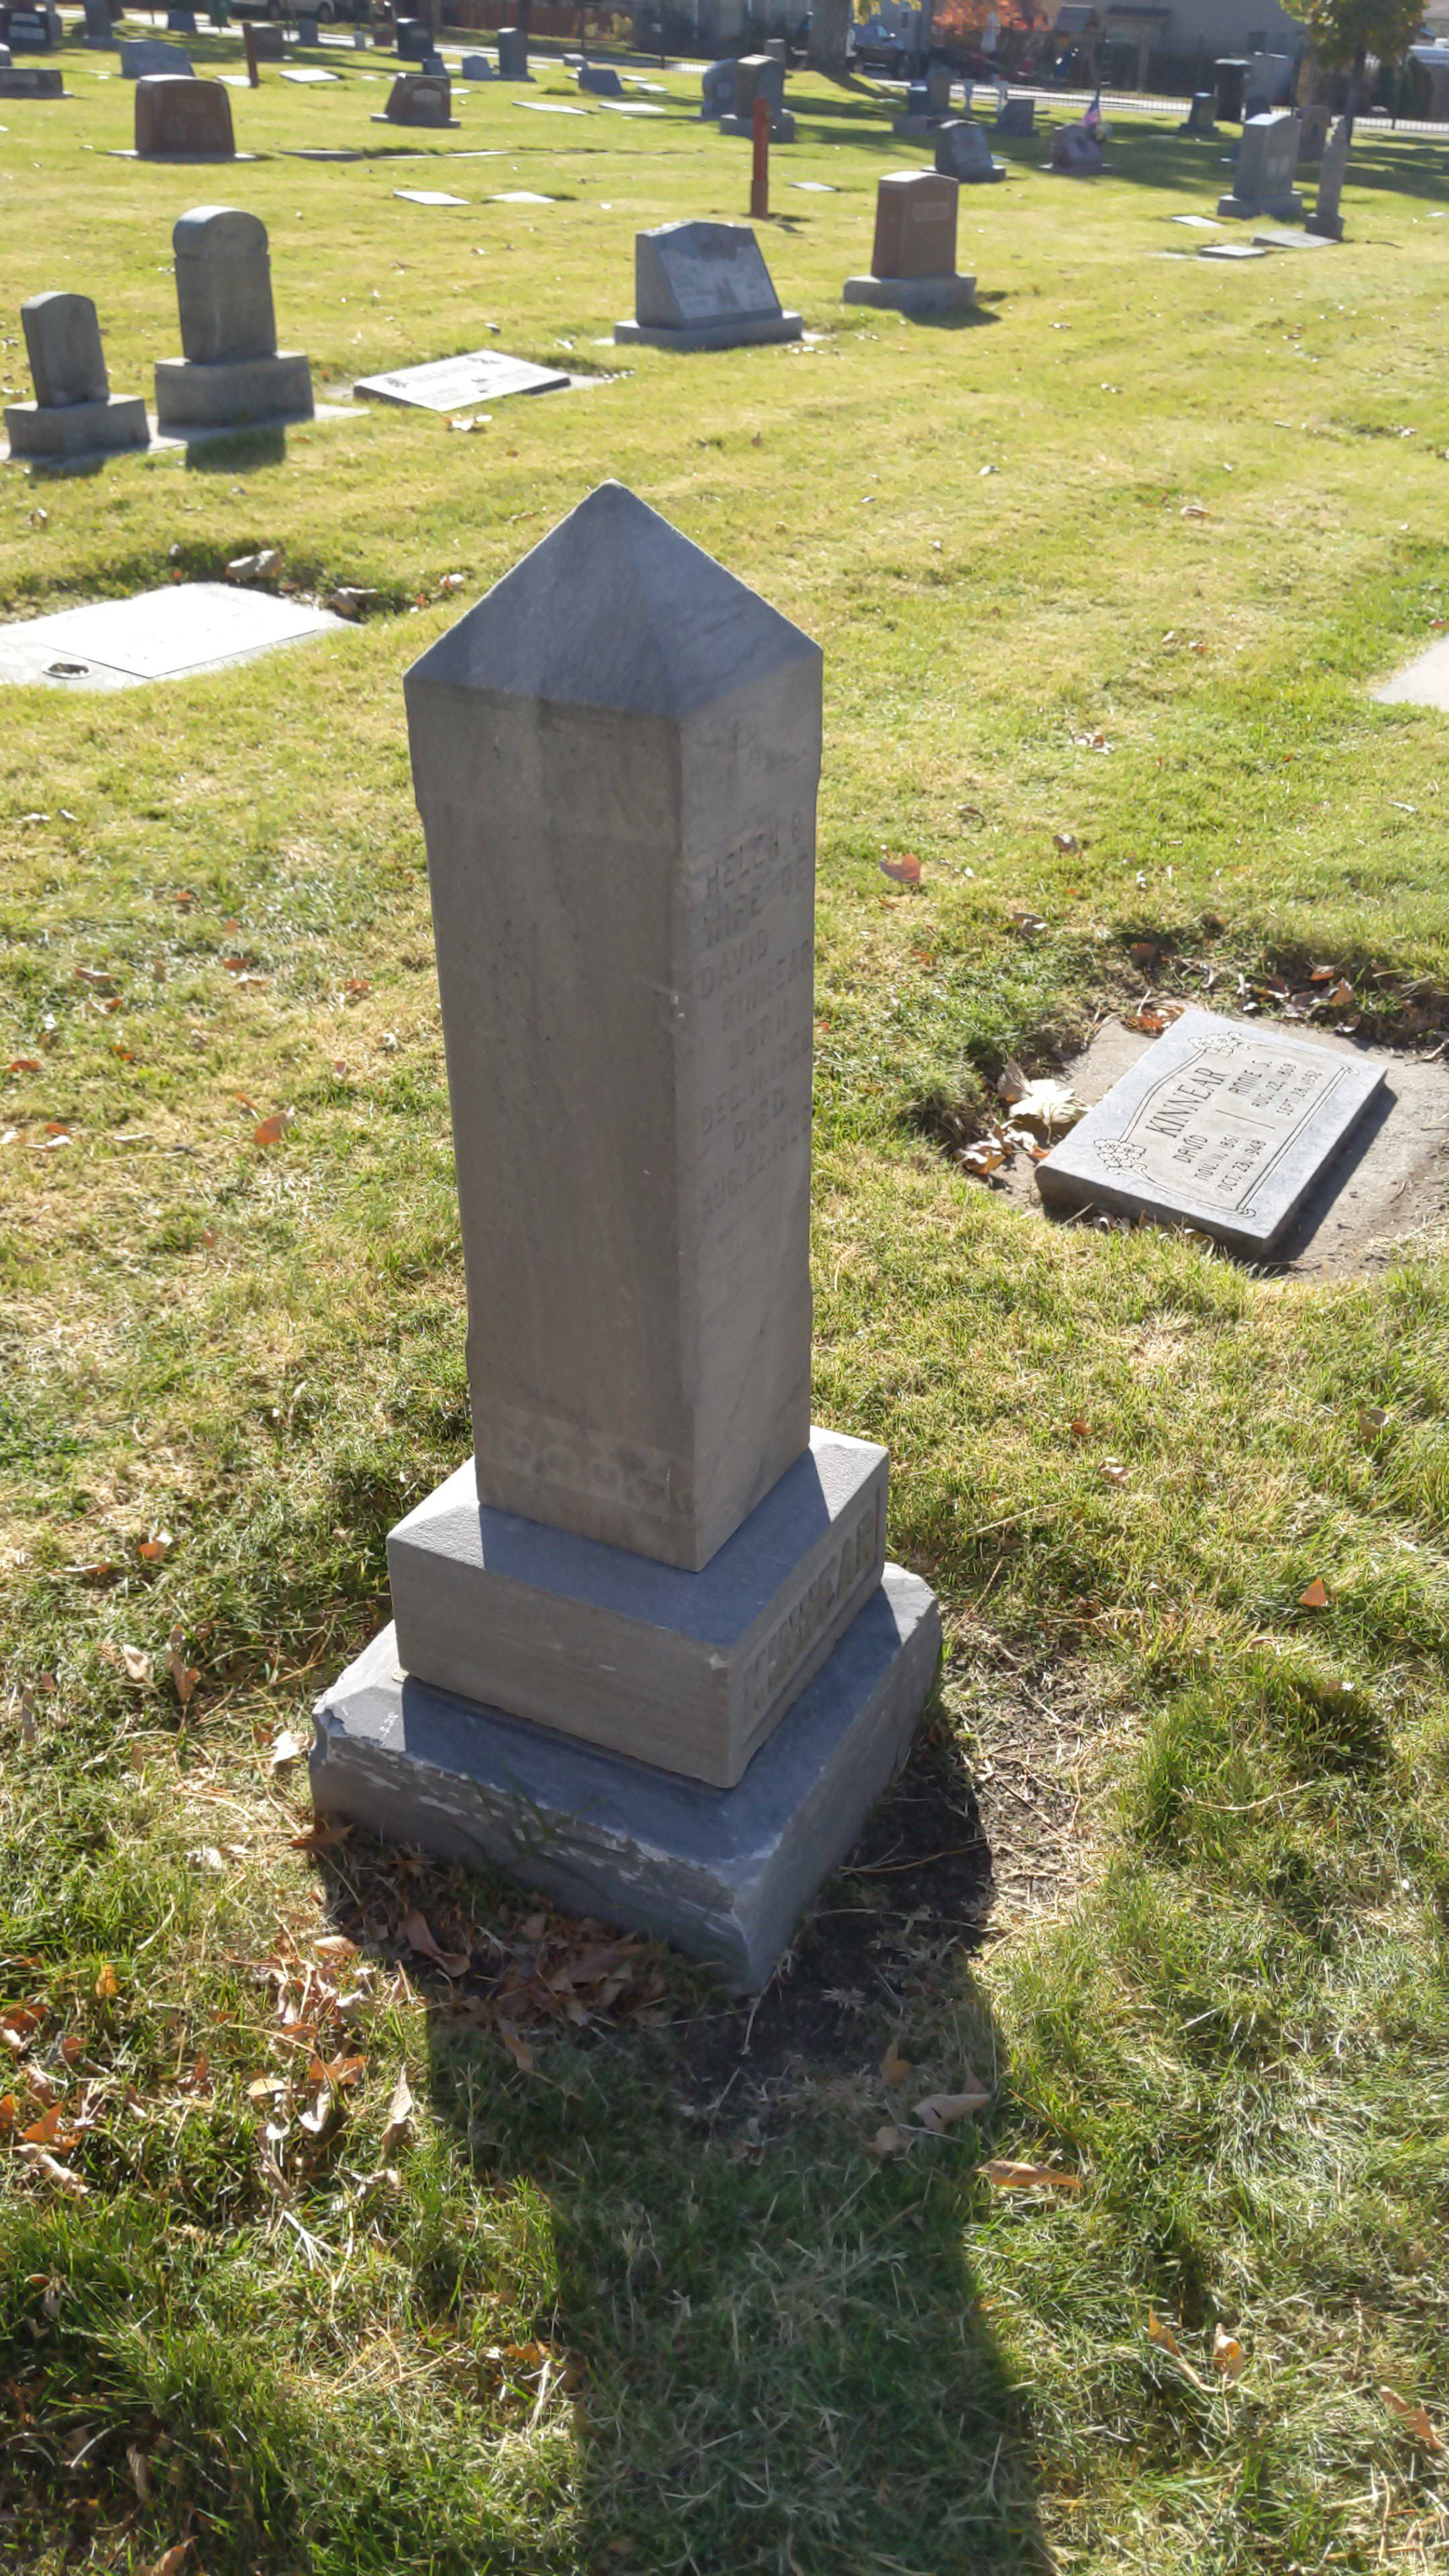obelisk: (387, 483, 879, 1794)
